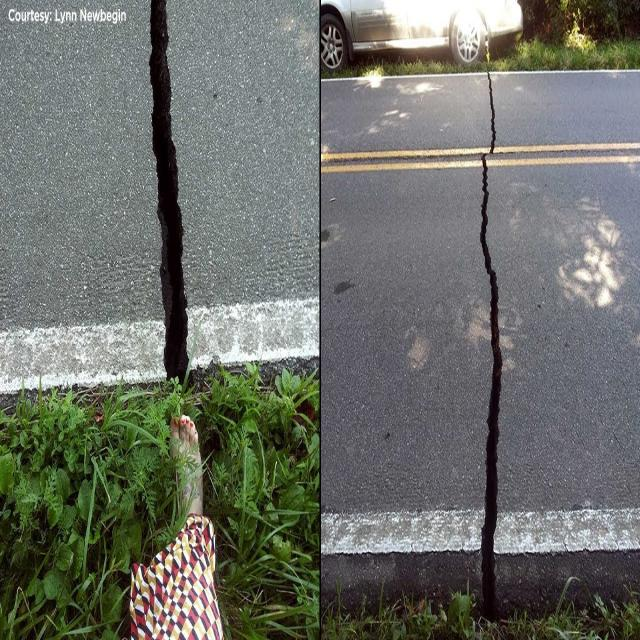Pothole: (440, 24, 631, 640), (131, 8, 334, 481)
